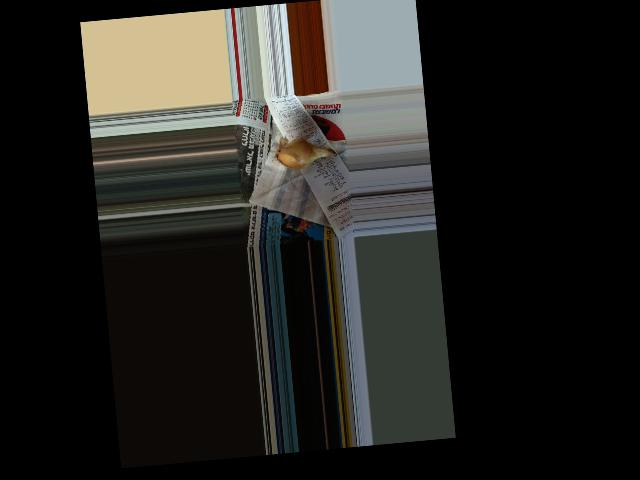onion: (276, 138, 322, 172)
